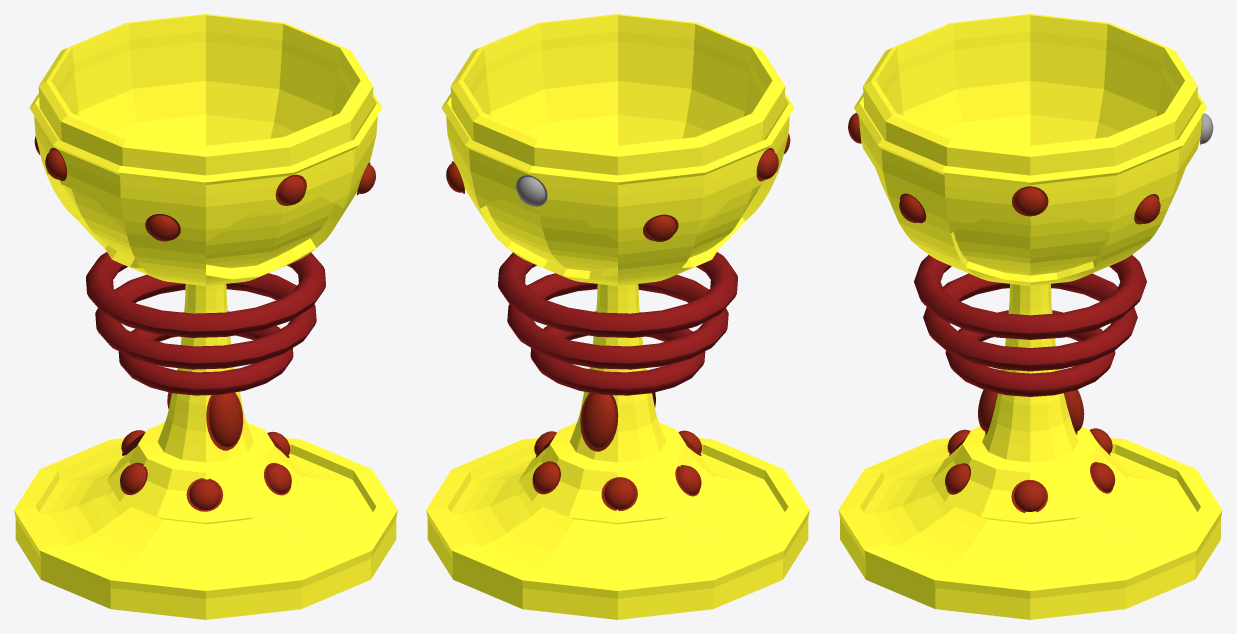
Rendered from mcguffin_textured.fbx.
The picture shows the model from 3 angles, left to right: view 1: azimuth 30°, elevation 25°; view 2: azimuth 150°, elevation 25°; view 3: azimuth 270°, elevation 25°; orthographic projection.
Visible parts, largest first — view 1: nurbsToPoly1, pasted__pasted__pTorus1 (×2), pasted__pasted__pasted__pTorus1, pasted__pasted__pSphereShape1, pasted__pasted__pasted__pasted__pasted__pasted__pasted__pSph (×2), pasted__pasted__pasted__pasted__pasted__pasted__pasted__past (×2), pasted__pasted__pasted__pasted__pasted__pSphereShape1, pasted__pasted__pasted__pasted__pasted__pasted__pSphereShape; view 2: nurbsToPoly1, pasted__pasted__pTorus1 (×2), pasted__pasted__pasted__pTorus1, pasted__pasted__pSphereShape1, pasted__pasted__pasted__pasted__pasted__pasted__pasted__past (×2), pasted__pasted__pasted__pasted__pasted__pasted__pasted__pSph (×2), pasted__pasted__pasted__pasted__pasted__pasted__pSphereShape (×2); view 3: nurbsToPoly1, pasted__pasted__pTorus1 (×2), pasted__pasted__pasted__pTorus1, pasted__pasted__pasted__pasted__pasted__pasted__pasted__past (×3), pasted__pasted__pasted__pasted__pasted__pasted__pasted__pSph (×2), pasted__pasted__pSphereShape1 (×2), pasted__pasted__pasted__pasted__pasted__pSphereShape1.
Boxes of the visible parts, x1,y1,x2,y2 form: nurbsToPoly1: (14,14,397,619); pasted__pasted__pTorus1 (×2): (95,273,316,395); pasted__pasted__pasted__pTorus1: (86,252,325,337); pasted__pasted__pSphereShape1: (206,392,243,450); pasted__pasted__pasted__pasted__pasted__pasted__pasted__pSph (×2): (120,462,223,511); pasted__pasted__pasted__pasted__pasted__pasted__pasted__past (×2): (264,174,306,495); pasted__pasted__pasted__pasted__pasted__pSphereShape1: (145,214,180,241); pasted__pasted__pasted__pasted__pasted__pasted__pSphereShape: (45,148,66,180); nurbsToPoly1: (426,14,809,619); pasted__pasted__pTorus1 (×2): (507,273,728,395); pasted__pasted__pasted__pTorus1: (498,252,737,337); pasted__pasted__pSphereShape1: (580,392,618,451); pasted__pasted__pasted__pasted__pasted__pasted__pasted__past (×2): (532,461,637,511); pasted__pasted__pasted__pasted__pasted__pasted__pasted__pSph (×2): (516,175,701,496); pasted__pasted__pasted__pasted__pasted__pasted__pSphereShape (×2): (643,148,778,241); nurbsToPoly1: (838,14,1222,619); pasted__pasted__pTorus1 (×2): (923,273,1137,396); pasted__pasted__pasted__pTorus1: (914,255,1146,339); pasted__pasted__pasted__pasted__pasted__pasted__pasted__past (×3): (945,462,1115,512); pasted__pasted__pasted__pasted__pasted__pasted__pasted__pSph (×2): (1012,186,1160,224); pasted__pasted__pSphereShape1 (×2): (978,389,1084,434); pasted__pasted__pasted__pasted__pasted__pSphereShape1: (899,193,926,223).
Bounding box in the file's own units: 1.44 × 1.9 × 1.44.
